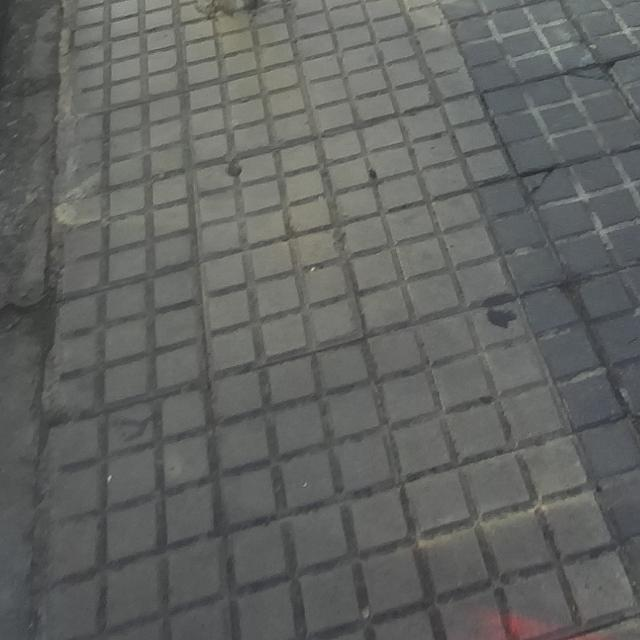calcada_quebrada: (188, 0, 300, 24), (514, 166, 571, 202), (560, 60, 621, 89)
